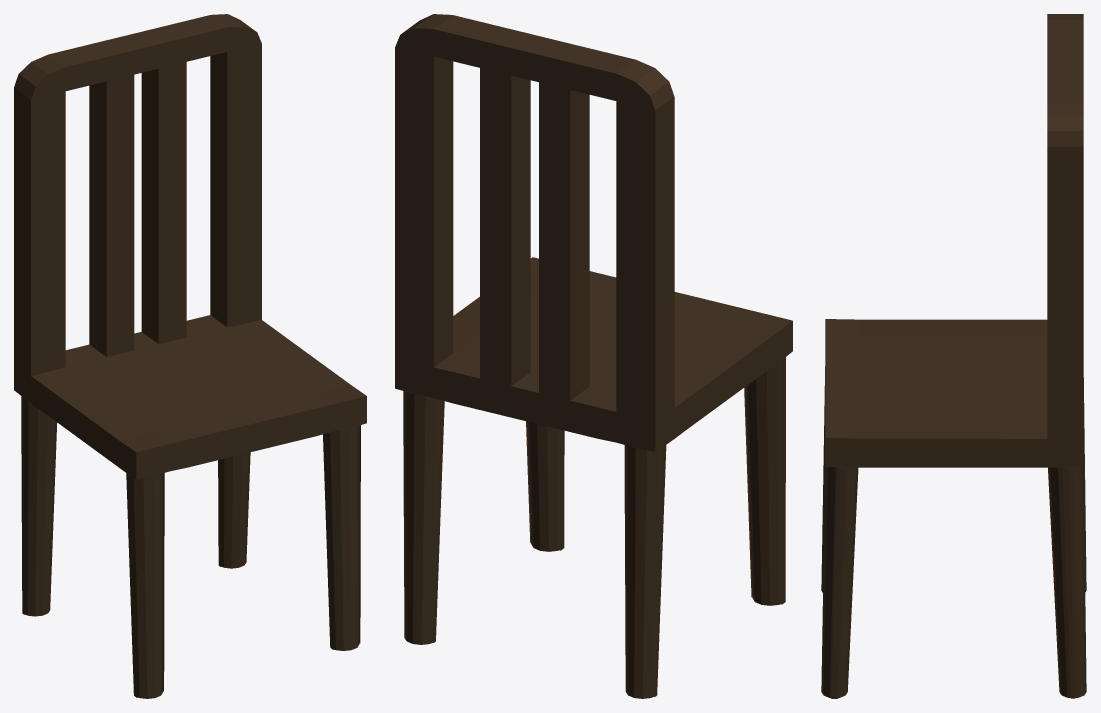
The model's file is Chair.fbx.
3 renders of one model, left to right at view 1: azimuth 30°, elevation 25°; view 2: azimuth 150°, elevation 25°; view 3: azimuth 270°, elevation 25°, orthographic. The views are drawn at different scales.
Parts seen in each view (by area): view 1: Cube; view 2: Cube; view 3: Cube.
Part boxes in pixels (<box>): Cube: <box>14,14,366,698</box>; Cube: <box>395,14,792,698</box>; Cube: <box>821,14,1086,698</box>.
Bounding box in the file's own units: 218 × 496 × 205.
